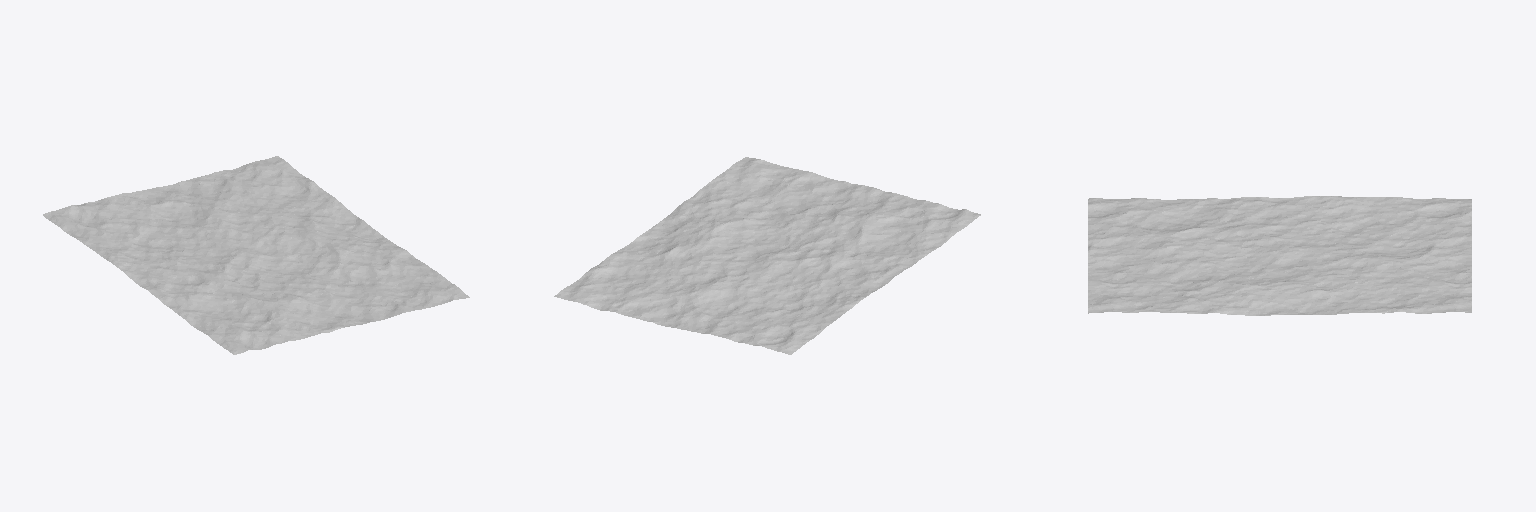
The model's file is pool20k.obj.
3 renders of one model, left to right at view 1: azimuth 30°, elevation 25°; view 2: azimuth 150°, elevation 25°; view 3: azimuth 270°, elevation 25°, orthographic.
Visible parts, largest first — view 1: pool156k_Mesh; view 2: pool156k_Mesh; view 3: pool156k_Mesh.
Part boxes in pixels (x1,y1,x2,y2): pool156k_Mesh: (43,156,469,354); pool156k_Mesh: (554,157,980,354); pool156k_Mesh: (1088,196,1471,315).
Size of the model in its own units: 8.16 by 0.1986 by 11.49.